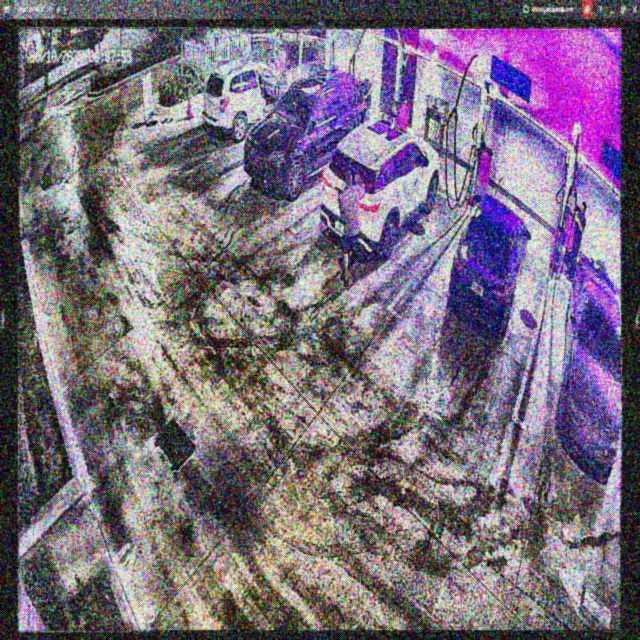Car: (321, 118, 440, 258), (245, 70, 370, 198), (447, 193, 530, 337)
